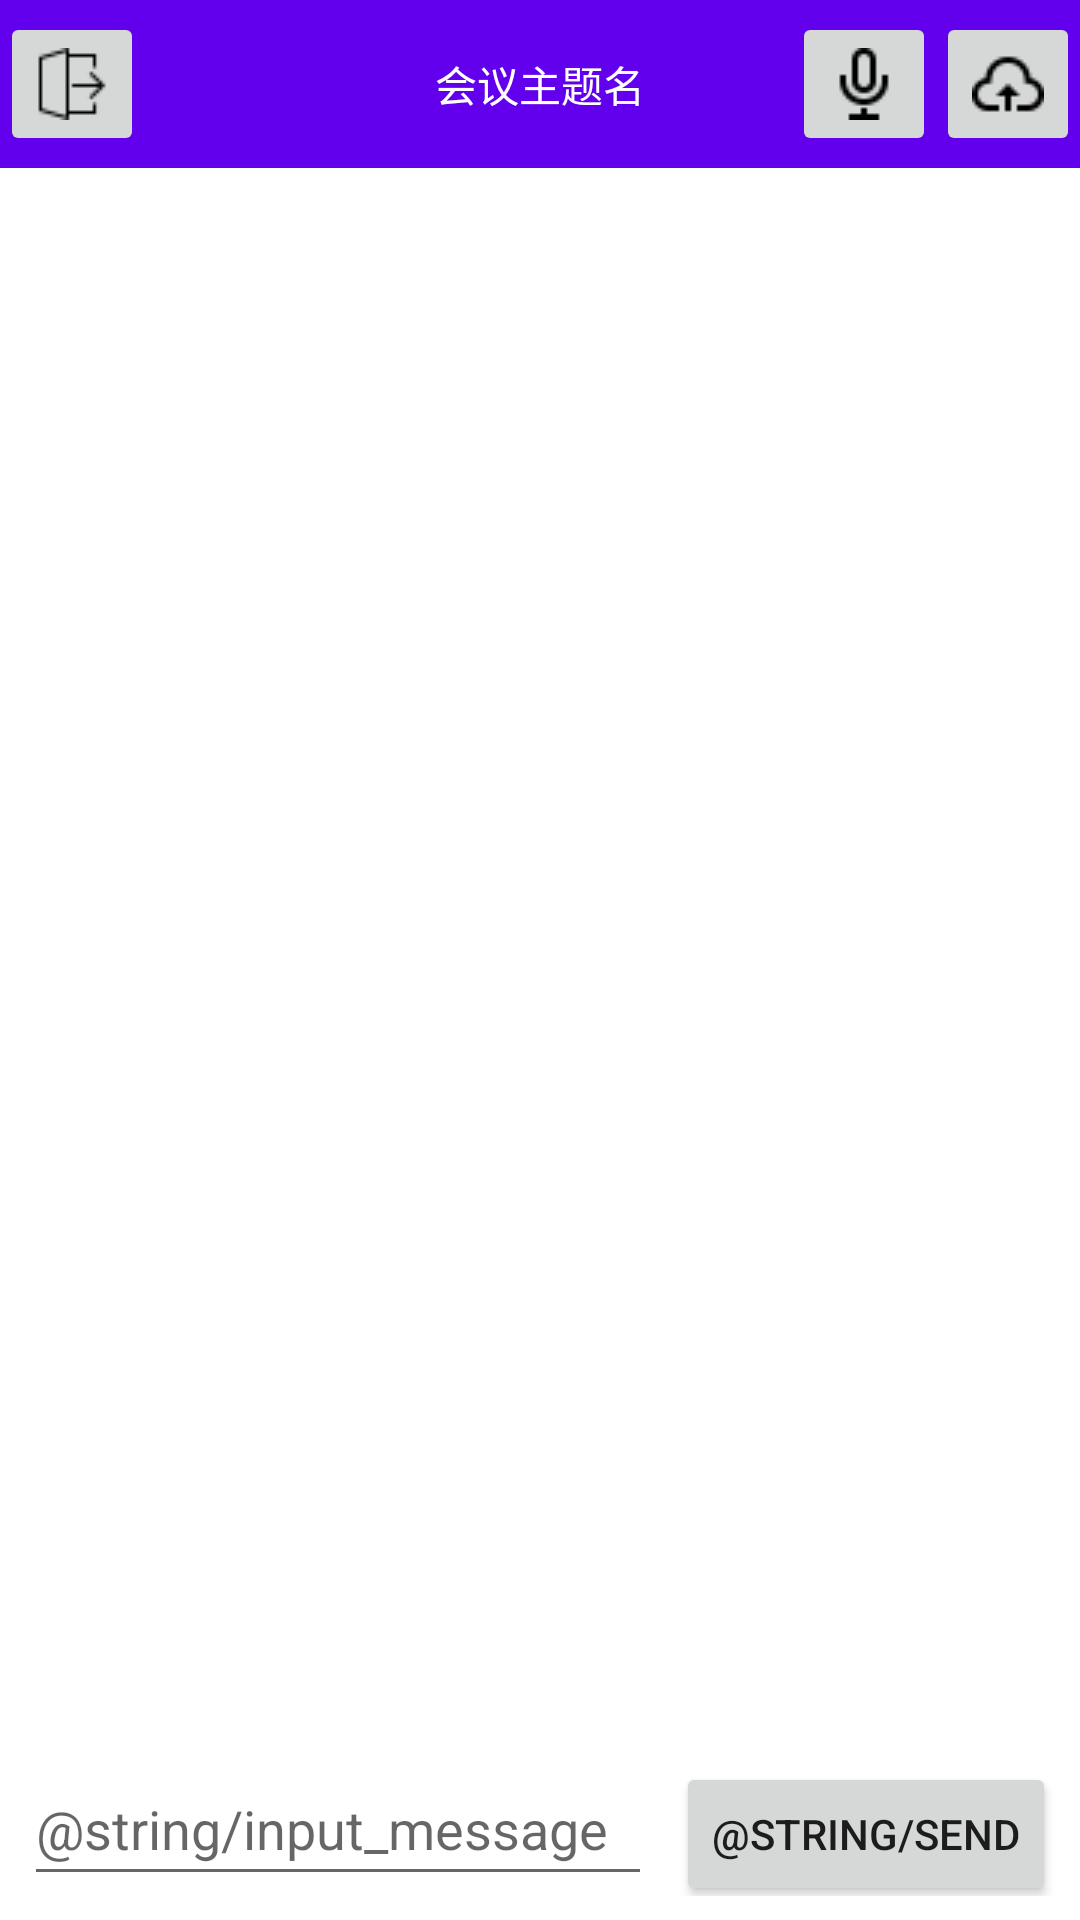

Named icons in this screenshot (1080*1920) and their bounding boxes, (x1, y1, x2, y2):
上传文件: (948, 30, 1068, 138)
退出会议: (12, 30, 132, 138)
麦克风: (804, 30, 924, 138)
